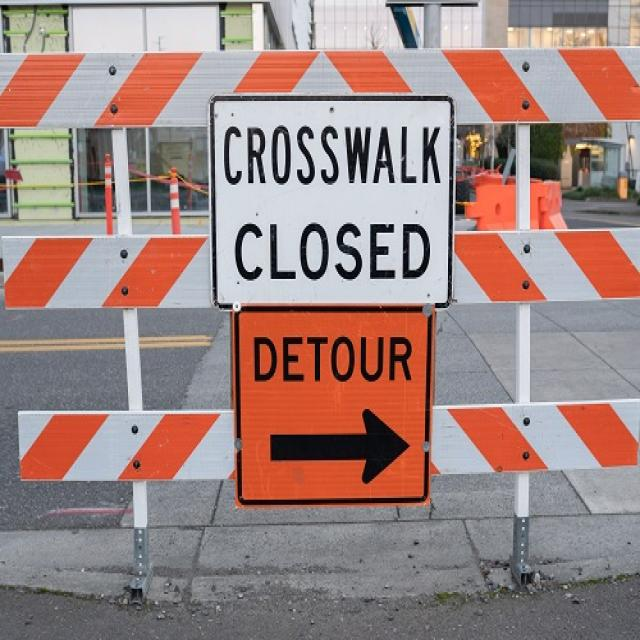cone: (0, 25, 640, 596)
